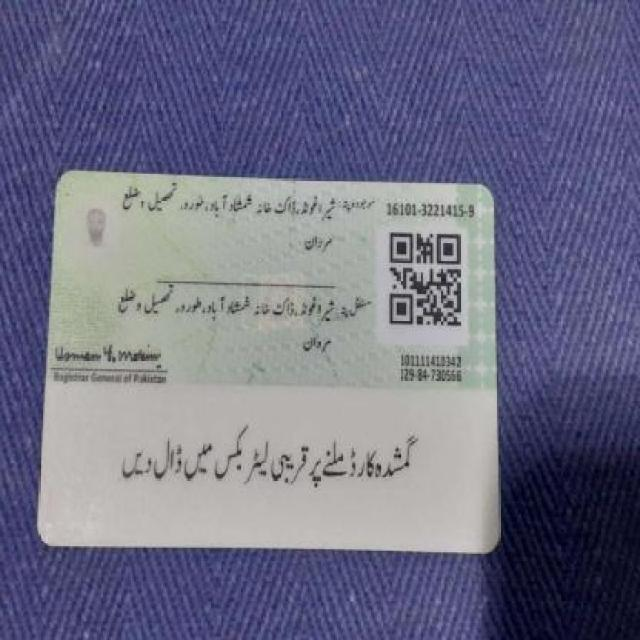Back: (43, 168, 508, 562)
